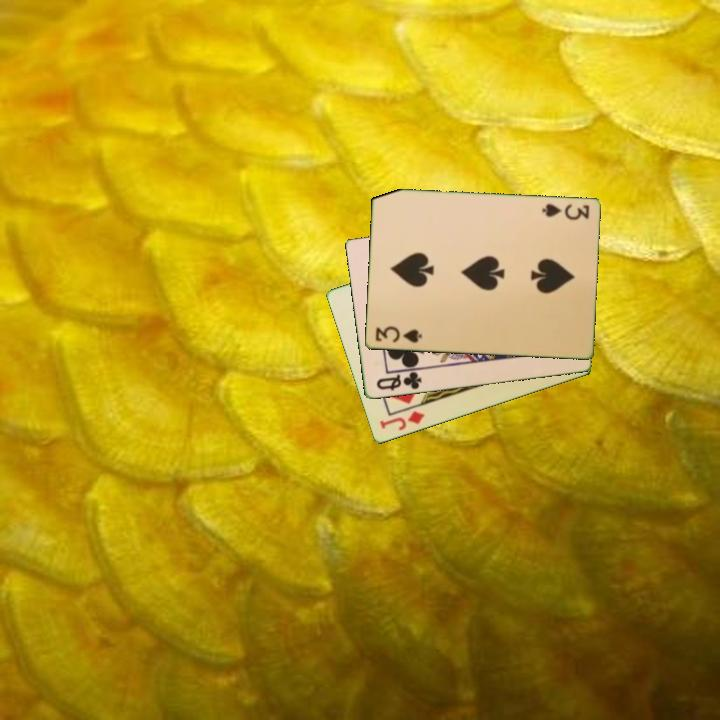3s: (372, 324, 425, 346), (539, 201, 592, 223)
Jd: (376, 408, 427, 434)
Qc: (373, 366, 424, 393)
